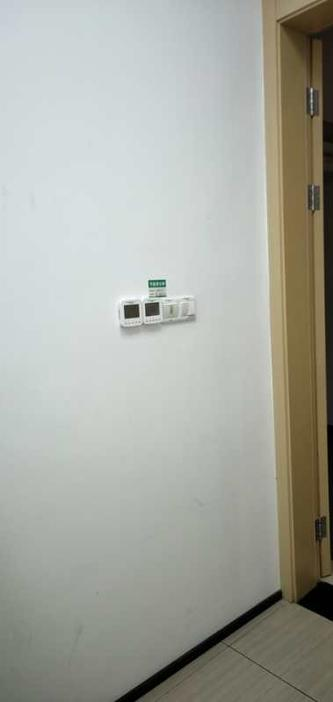switch: (189, 300, 205, 327), (165, 297, 180, 321)
